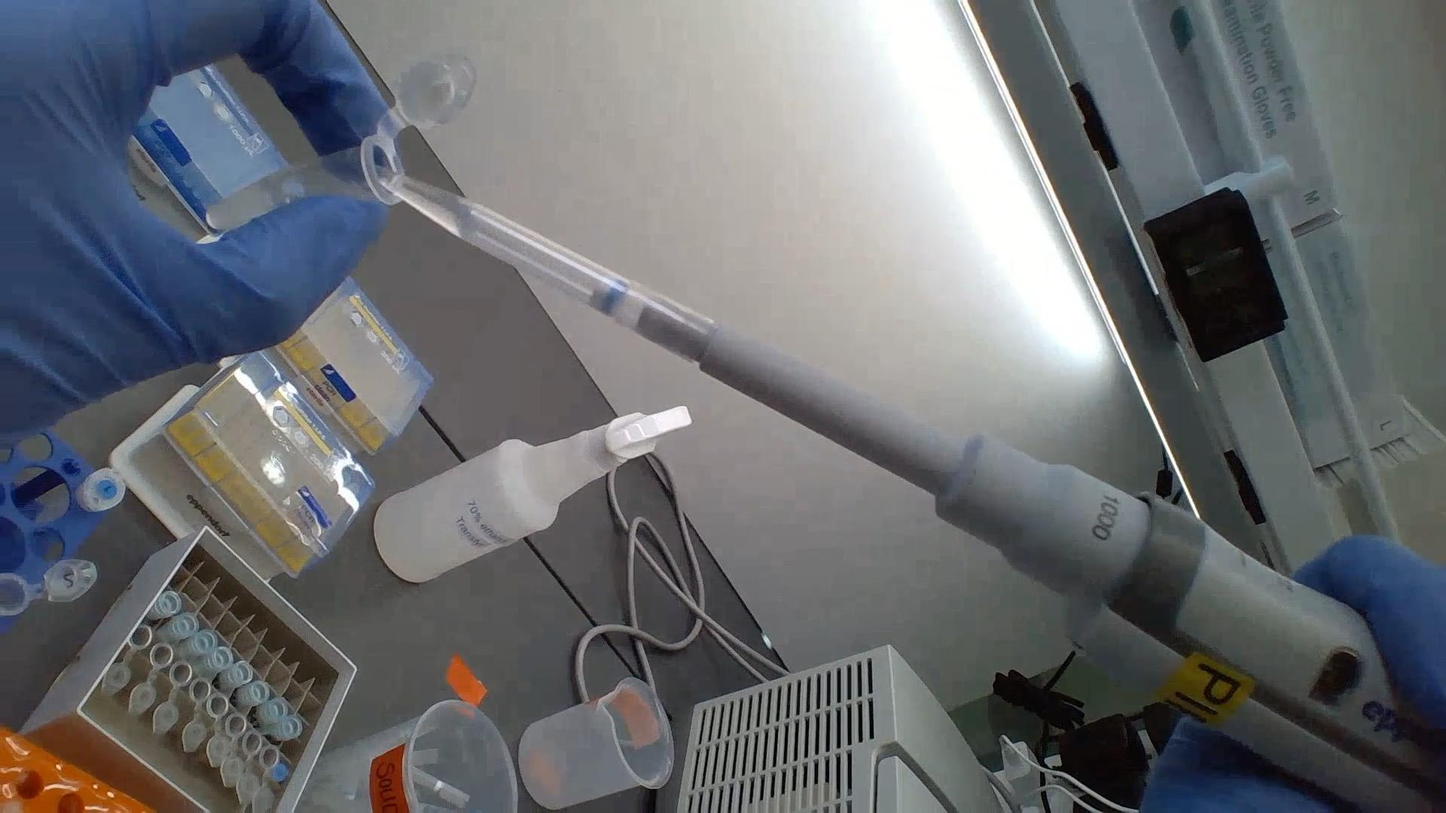pipette: (389, 175, 1442, 808)
